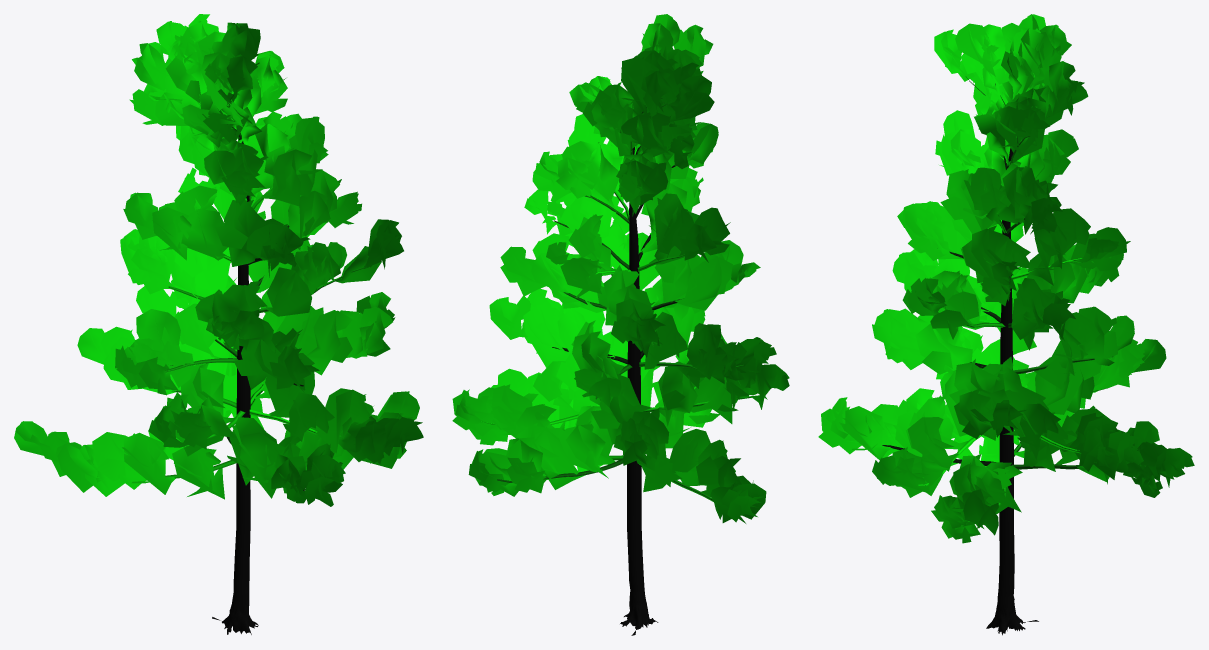
File: Pine_002_M.FBX
3 views of the same model, side by side, from view 1: azimuth 30°, elevation 25°; view 2: azimuth 150°, elevation 25°; view 3: azimuth 270°, elevation 25° (orthographic). The views are drawn at different scales.
Parts seen in each view (by area): view 1: M_LOD0; view 2: M_LOD0; view 3: M_LOD0.
Boxes of the visible parts, box(x1,y1,x2,y2) form: M_LOD0: box(14, 14, 423, 634); M_LOD0: box(452, 14, 789, 635); M_LOD0: box(818, 14, 1194, 635).
Size of what is drawn, in the model's own units: 664 by 1164 by 662.
